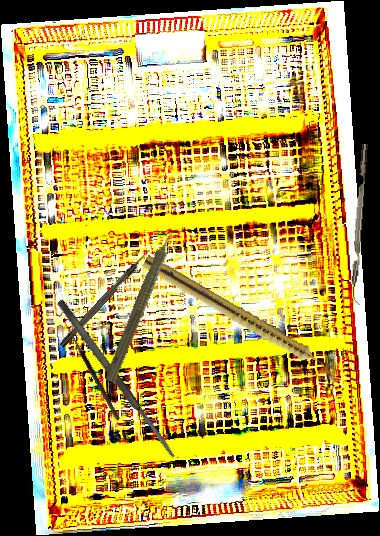Chopper: (348, 143, 376, 306)
Handpiece: (139, 254, 334, 377), (102, 222, 184, 386)
Hook Surgical: (58, 248, 153, 348), (57, 321, 122, 424)
Spatula Surgical: (55, 297, 178, 461)
